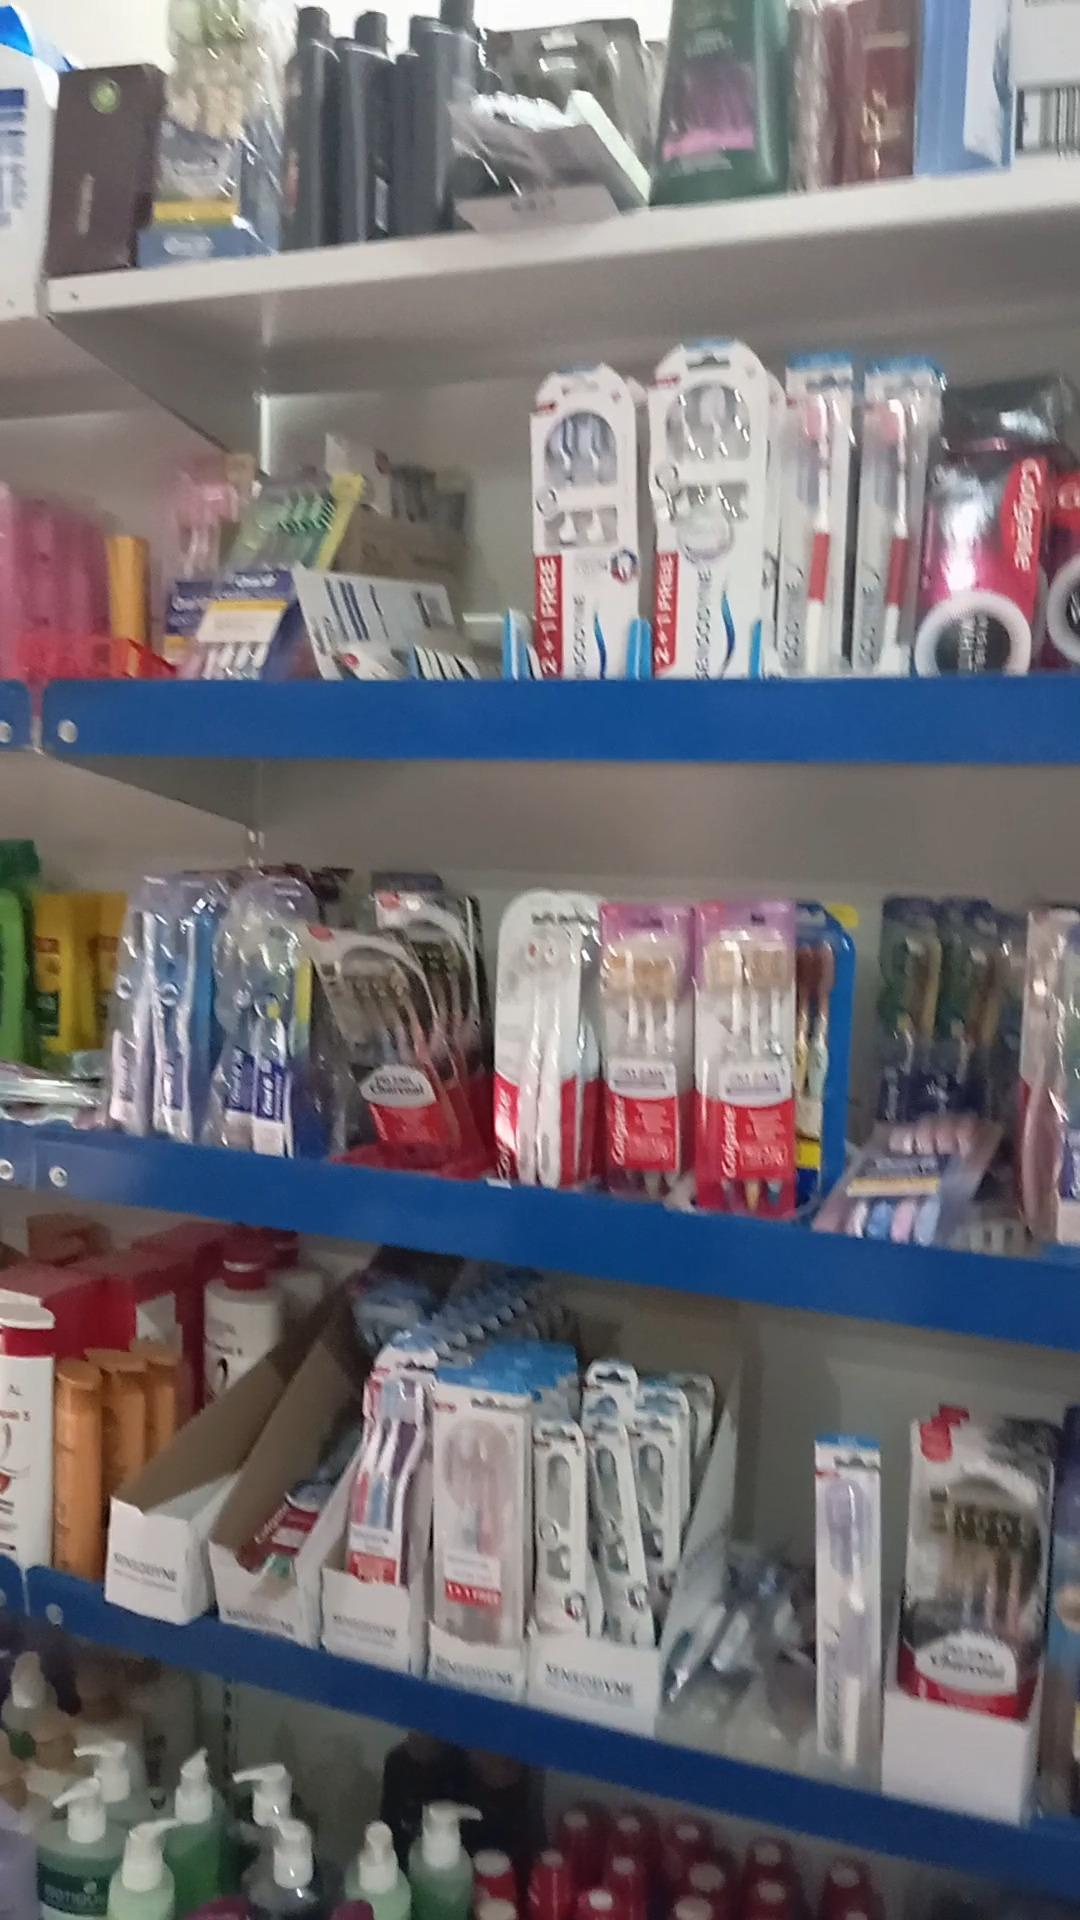16: (533, 363, 637, 678)
4: (646, 335, 767, 674)
6: (348, 1371, 418, 1582)
9: (258, 907, 305, 1156)
liquid soap: (911, 1432, 1042, 1710), (323, 931, 446, 1159)
